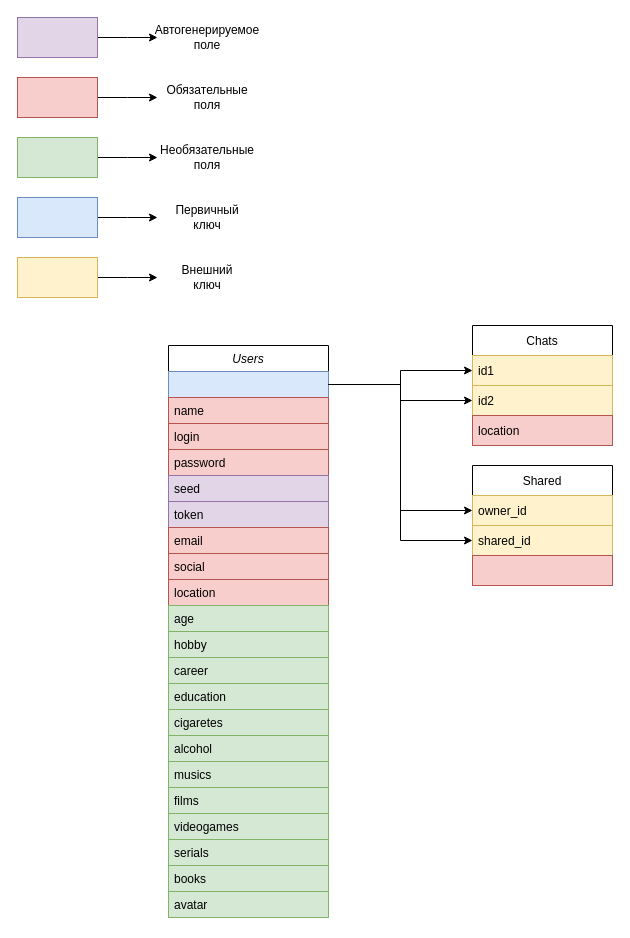
Image size: 630x938. Some labels were removed from this diagram. The centre of each missing label's shape, as x and y in pixels:
"field" belongs at point (542, 570).
"id" belongs at point (248, 384).
